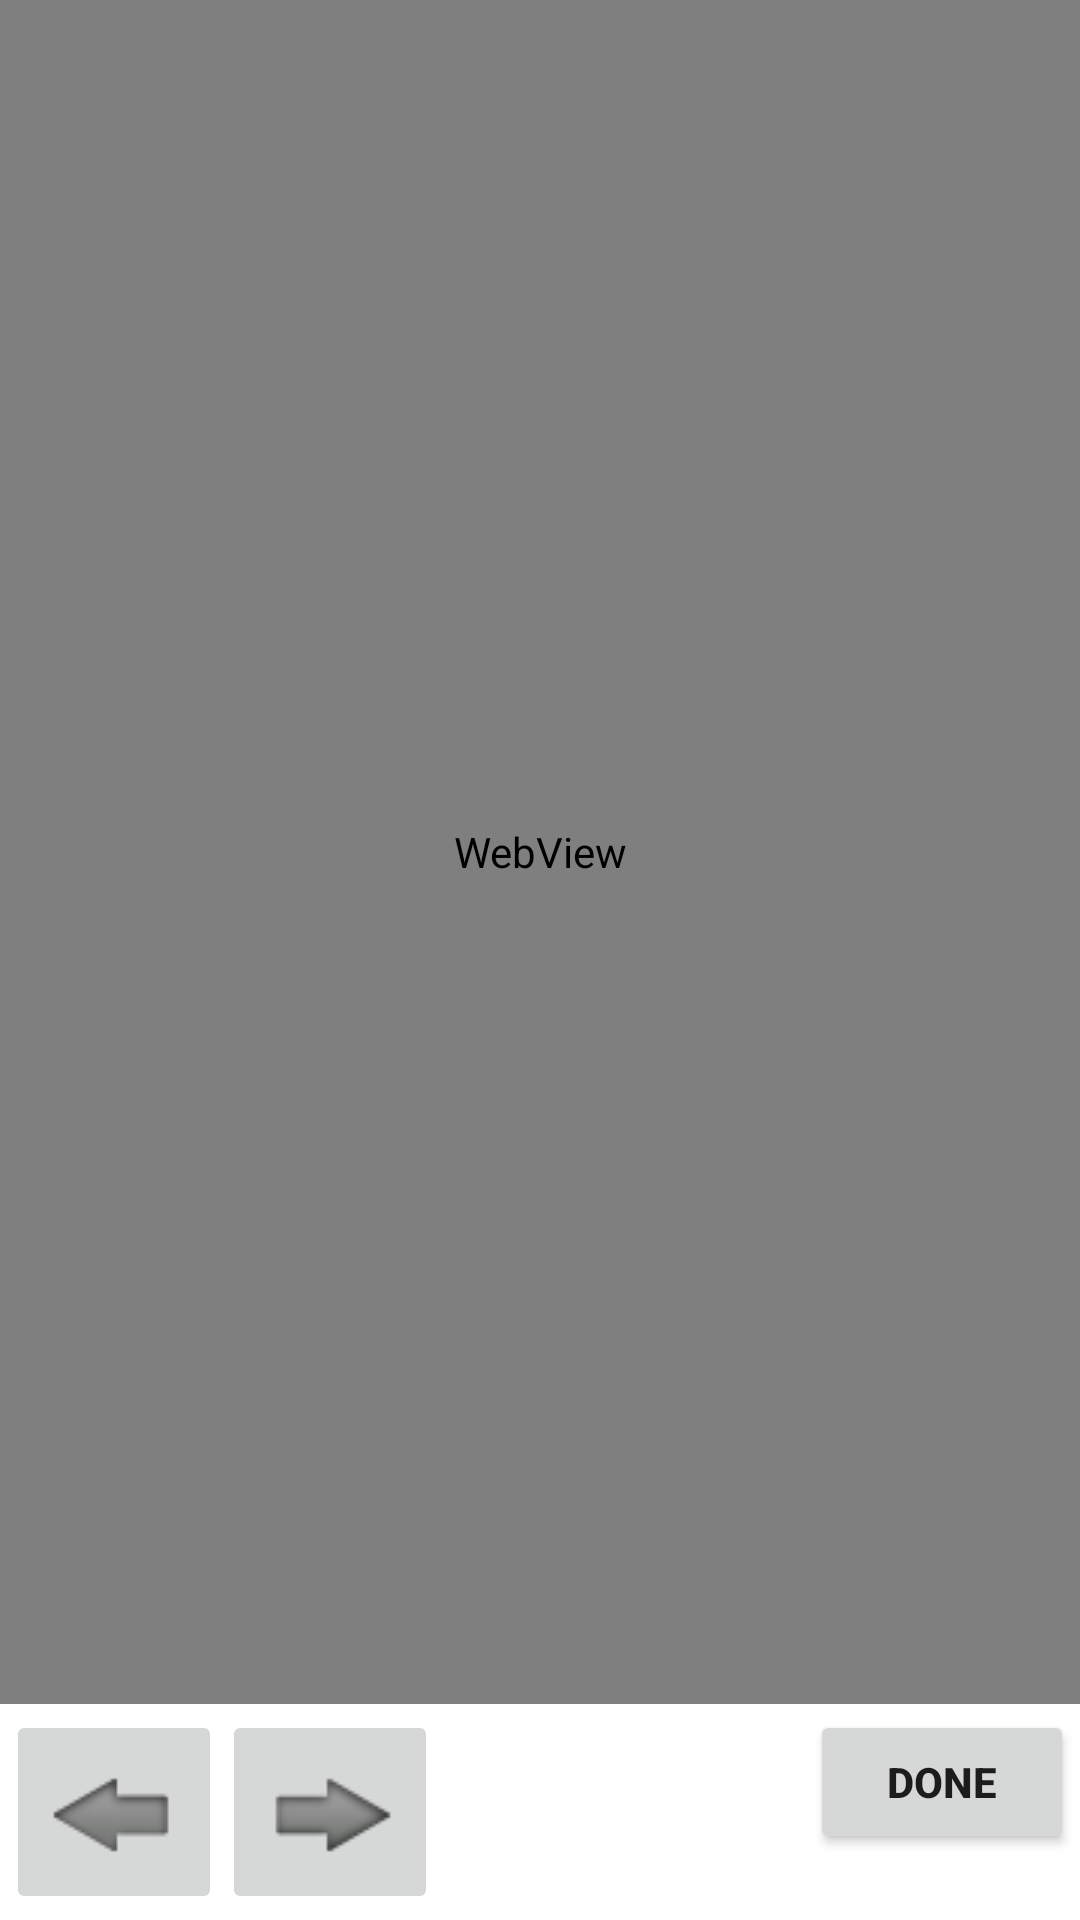

Locate icon controls on the screen. Image size 1080x1920, boxes as (left=x1, top=y1, right=x2, bottom=y2).
backbutton: (left=18, top=1728, right=210, bottom=1896)
forwardbutton: (left=234, top=1728, right=426, bottom=1896)
